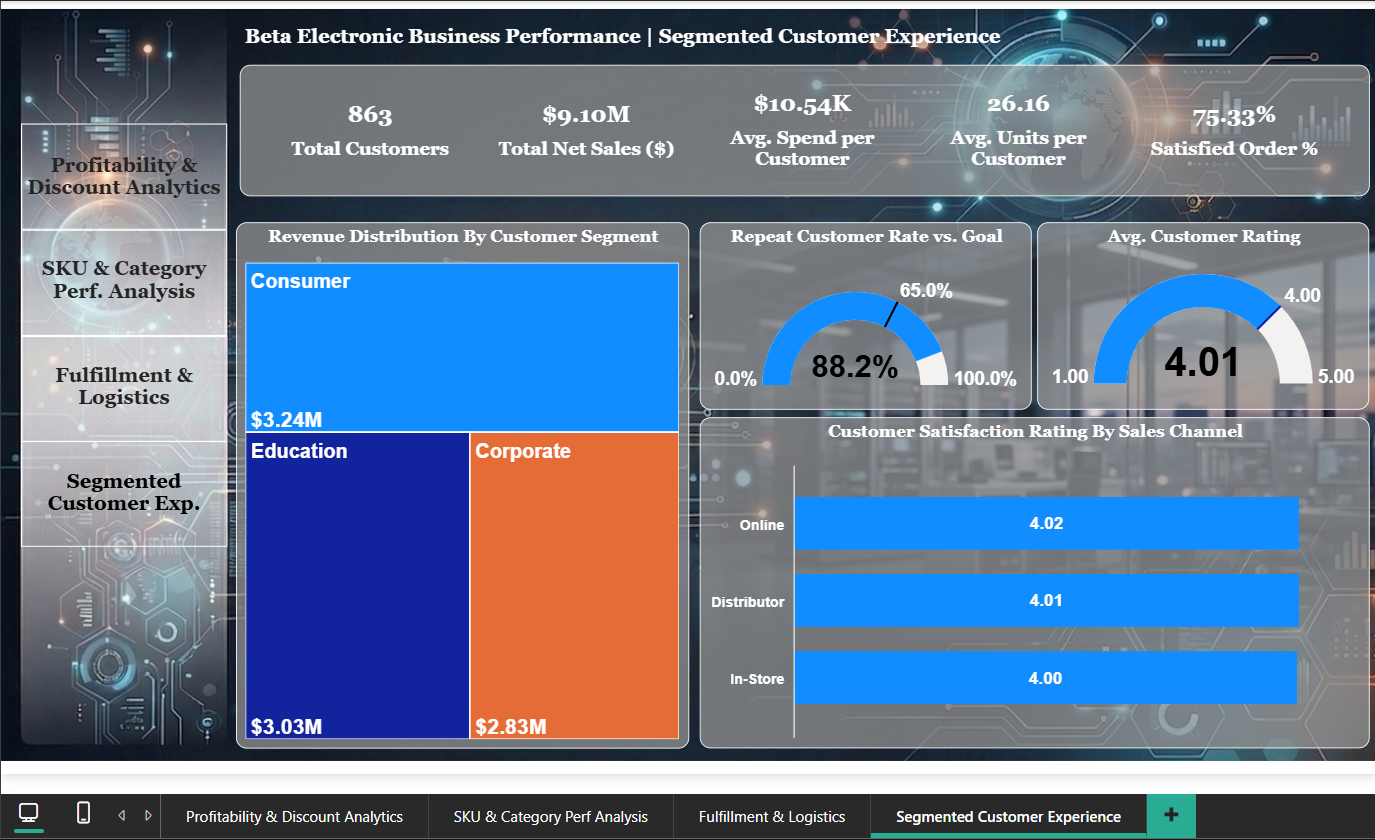

What the dashboard file says about the page in this screenshot:
{"tool":"powerbi","page":{"name":"Segmented Customer Experience","canvas":[1280,720],"ordinal":3},"visuals":[{"type":"cardVisual","fields":{"Data":["Beta_Electronics_Data.Total Customers","Beta_Electronics_Data.Total Net Sales ($)","Beta_Electronics_Data.Avg. Spend per Customer","Beta_Electronics_Data.Avg. Units per Customer","Beta_Electronics_Data.Satisfied Order %"]},"box":[221.9,59.8,1050.9,122.2],"z":0},{"type":"textbox","box":[221.7,17.2,1051.2,35.5],"z":1000},{"type":"textbox","box":[18.6,137.3,191.7,54.4],"z":2000},{"type":"textbox","box":[18.6,233.7,191.9,76.7],"z":3000},{"type":"textbox","box":[18.6,332.7,191.7,54.4],"z":4000},{"type":"textbox","box":[18.6,431.7,191.7,54.4],"z":5000},{"type":"actionButton","box":[18.2,409.7,192.1,98.5],"z":6000},{"type":"treemap","title":"Revenue Distribution By Customer Segment","fields":{"Group":["Beta_Electronics_Data.Customer Segment"],"Values":["Beta_Electronics_Data.Total Net Sales ($)"]},"box":[218.2,205.7,421.3,489.9],"z":7000},{"type":"actionButton","box":[18.2,311.2,192.1,98.5],"z":8000},{"type":"actionButton","box":[18.6,212.8,191.9,98.8],"z":9000},{"type":"actionButton","box":[18.6,114,191.9,98.8],"z":10000},{"type":"gauge","title":"Avg. Customer Rating","fields":{"Y":["Beta_Electronics_Data.Avg. Customer Rating"],"TargetValue":["Beta_Electronics_Data.Target Rating"]},"box":[963.6,205.7,309.2,174.5],"z":11000},{"type":"clusteredBarChart","title":"Customer Satisfaction Rating By Sales Channel","fields":{"Category":["Beta_Electronics_Data.Sales Channel"],"Y":["Beta_Electronics_Data.Avg. Customer Rating"]},"box":[649.5,387.7,623.3,307.9],"z":12000},{"type":"gauge","title":"Repeat Customer Rate vs. Goal","fields":{"Y":["Beta_Electronics_Data.Repeat Buyer %"],"TargetValue":["Beta_Electronics_Data.Retention Goal %"]},"box":[649.5,205.7,309.2,174.5],"z":13000}]}

Visuals, with their boxes on the page's 1280x720 design canvas (x1, y1, x2, y2). These are canvas units, not pixel positions in the 1375x840 screenshot, which may show the page scaled, cropped or inside an application window:
cardVisual - Beta_Electronics_Data.Total Customers x Beta_Electronics_Data.Total Net Sales ($): 222,60,1273,182
textbox: 222,17,1273,53
textbox: 19,137,210,192
textbox: 19,234,210,310
textbox: 19,333,210,387
textbox: 19,432,210,486
actionButton: 18,410,210,508
"Revenue Distribution By Customer Segment" treemap: 218,206,640,696
actionButton: 18,311,210,410
actionButton: 19,213,210,312
actionButton: 19,114,210,213
"Avg. Customer Rating" gauge: 964,206,1273,380
"Customer Satisfaction Rating By Sales Channel" clusteredBarChart: 650,388,1273,696
"Repeat Customer Rate vs. Goal" gauge: 650,206,959,380
